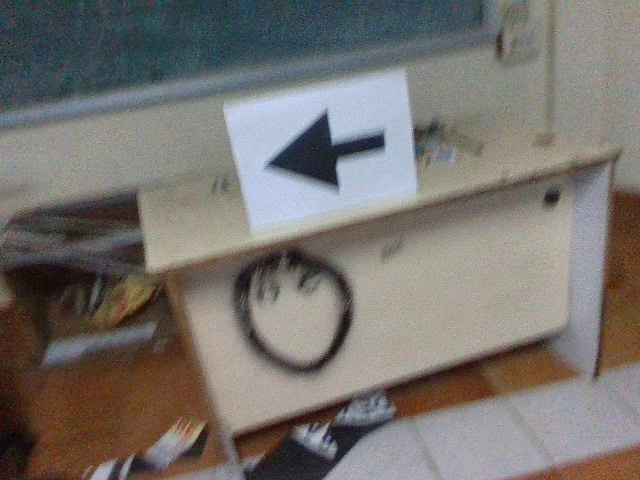Left: (256, 103, 390, 192)
